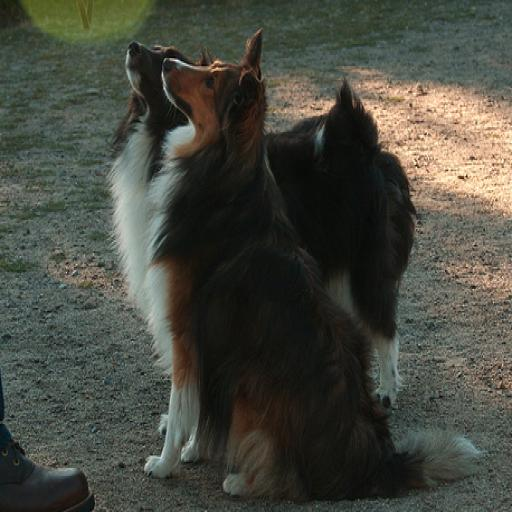dog_face: (165, 34, 274, 164)
